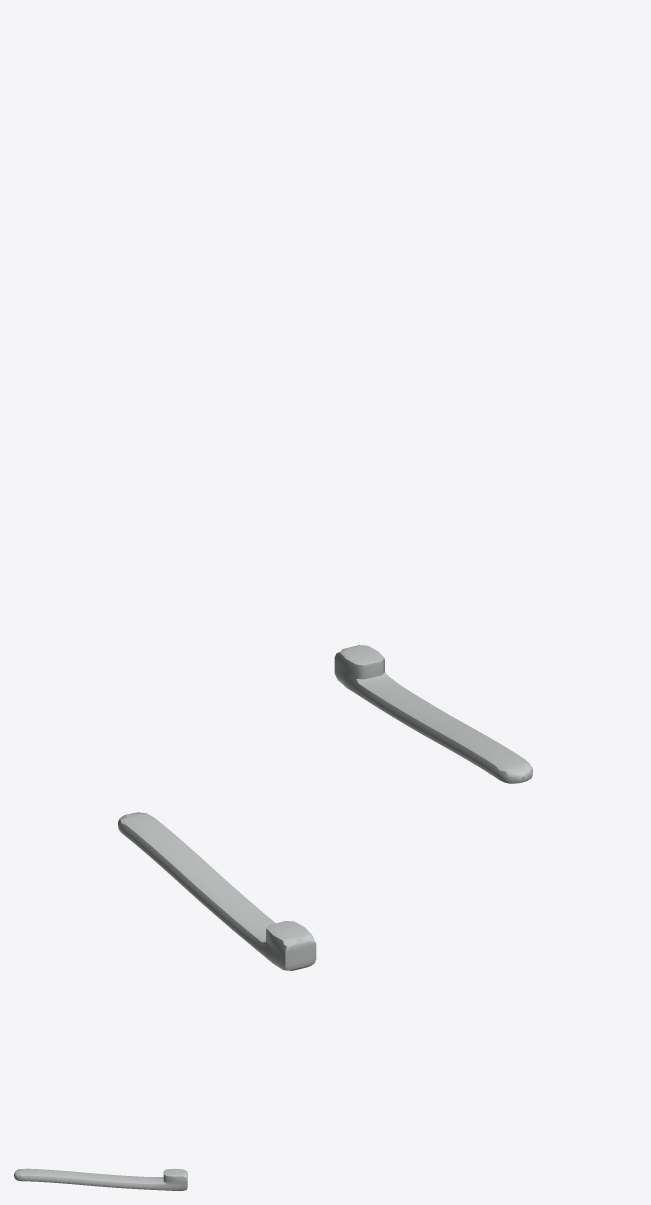
File: MeshFridgeFreezerdoorB1_3_GeomSubset_1.obj
The picture shows the model from 3 angles, top to bottom: view 1: azimuth 30°, elevation 25°; view 2: azimuth 210°, elevation 25°; view 3: azimuth 270°, elevation 25°; orthographic projection. The views are drawn at different scales.
Parts seen in each view (by area): view 1: MeshFridgeFreezerdoorB1_3_GeomSubset_1; view 2: MeshFridgeFreezerdoorB1_3_GeomSubset_1; view 3: MeshFridgeFreezerdoorB1_3_GeomSubset_1.
Part boxes in pixels (x1=…): MeshFridgeFreezerdoorB1_3_GeomSubset_1: x1=334, y1=645, x2=532, y2=783; MeshFridgeFreezerdoorB1_3_GeomSubset_1: x1=118, y1=812, x2=316, y2=970; MeshFridgeFreezerdoorB1_3_GeomSubset_1: x1=14, y1=1168, x2=187, y2=1190.
Bounding box in the file's own units: 0.3717 × 0.4249 × 1.71.
